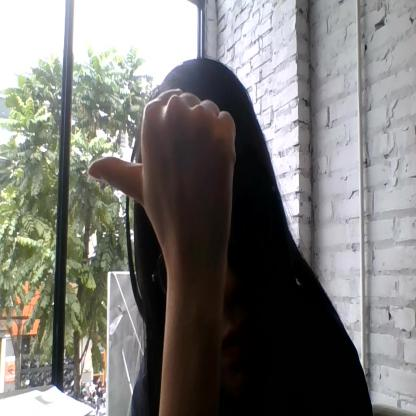right: (87, 83, 236, 250)
